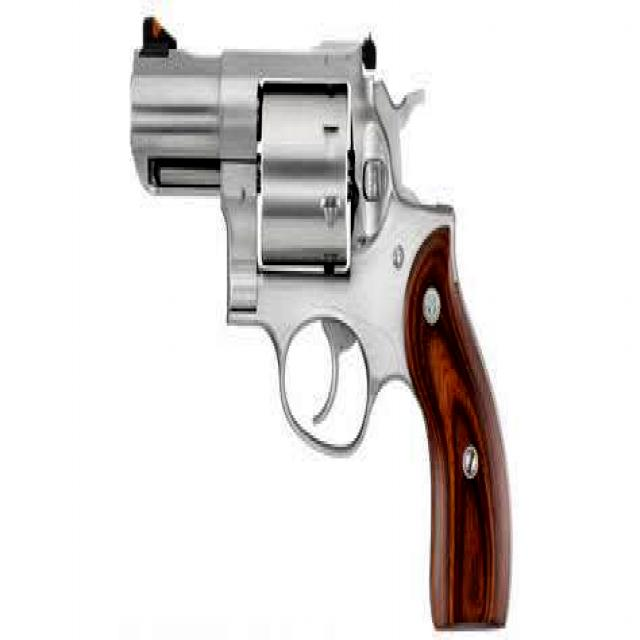revolver: (124, 8, 516, 640)
